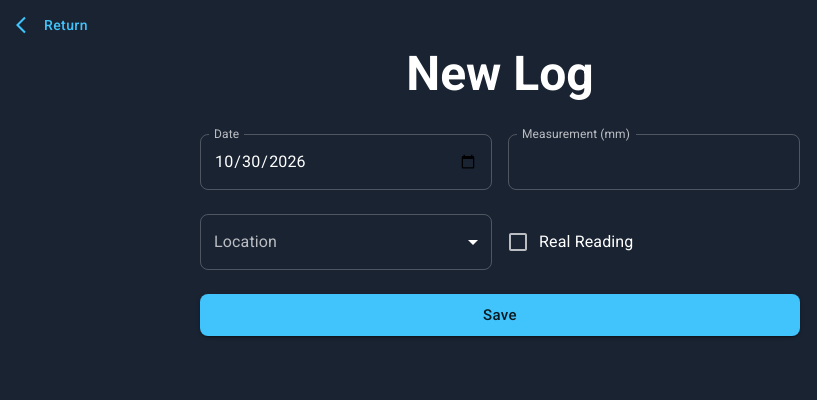
NewLog › Validation › shows validation error for negative measurement
// Enter negative value
Type "-5" into the number field labelled "Measurement (mm)".
click(654, 162); type("-5")  # box left=508, top=134, right=800, bottom=190
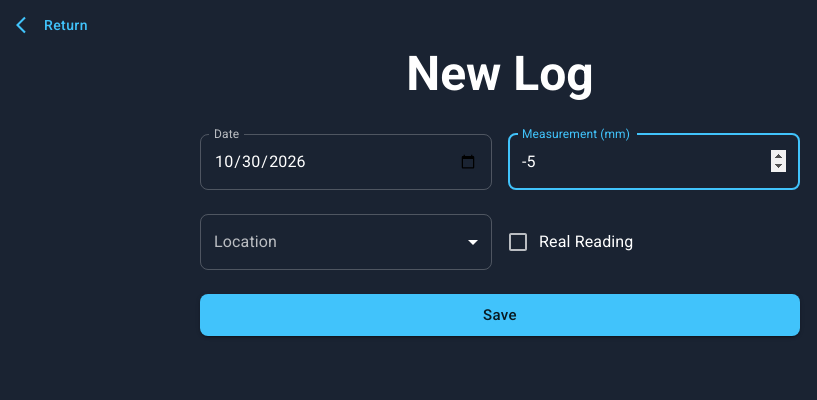
// Submit to trigger validation
Click the button "Save".
click(500, 315)  # box left=200, top=294, right=800, bottom=336
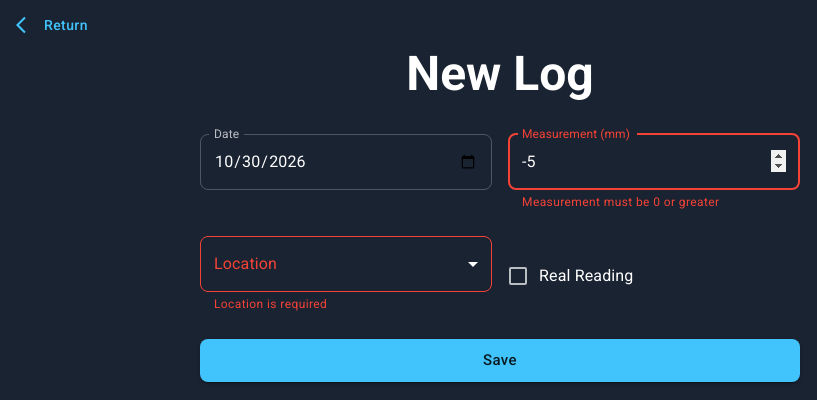
Expected: the text "Measurement must be 0 or greater" is shown, left=522, top=194, right=720, bottom=208
